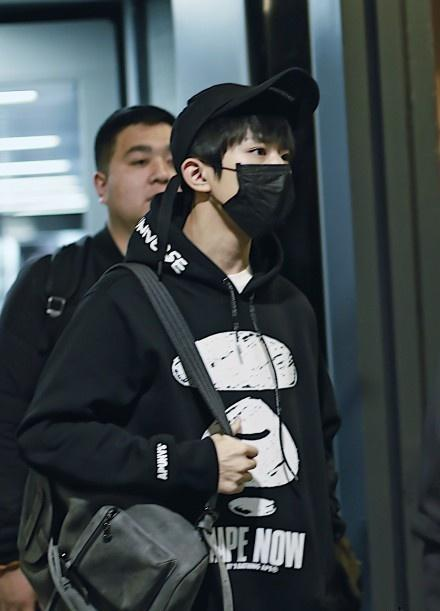NONE: (110, 142, 190, 224)
OK: (197, 133, 299, 235)
